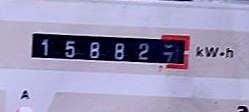1: (38, 36, 51, 56)
2: (136, 40, 150, 60)
5: (62, 37, 76, 58)
7: (161, 49, 173, 64)
8: (87, 38, 101, 60), (112, 40, 126, 62)
screen: (22, 19, 200, 76)
